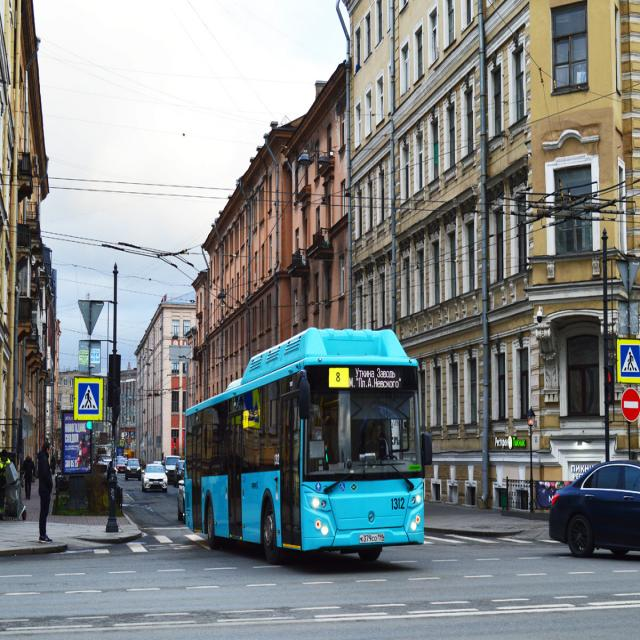number-of-bus: (333, 370, 346, 387)
